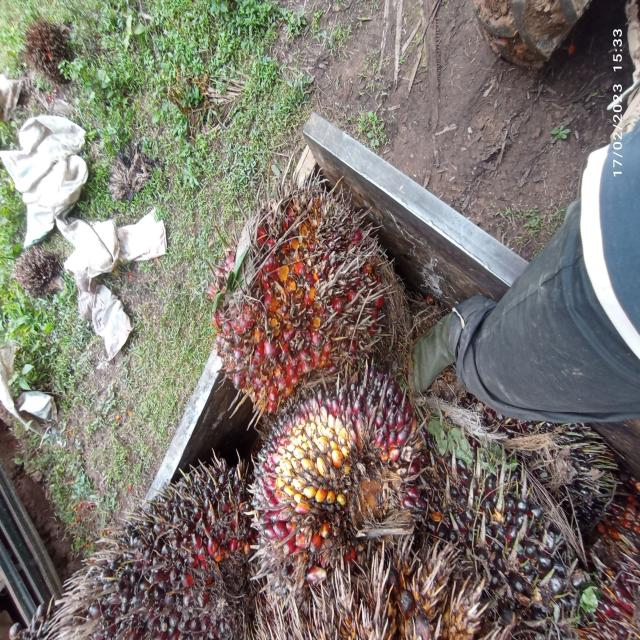fraksi 00: (246, 354, 433, 573), (50, 456, 252, 640), (385, 447, 568, 640)
fraksi 4: (208, 184, 394, 414)
